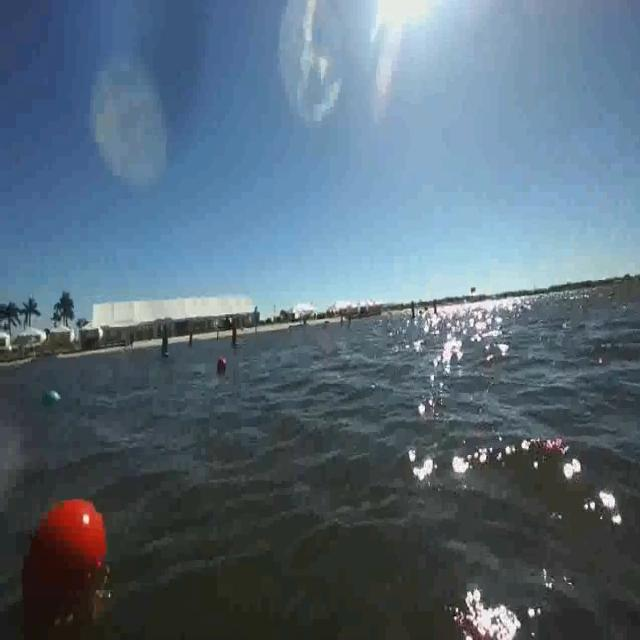black-buoy: (218, 357, 226, 370)
green-buoy: (42, 390, 58, 406)
green-column-buoy: (160, 326, 172, 360)
red-buoy: (15, 488, 120, 627)
